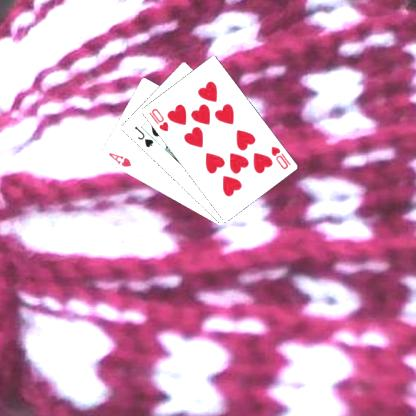10H: (145, 106, 170, 133), (268, 143, 292, 171)
AH: (105, 150, 132, 169)
JS: (131, 123, 155, 149)
